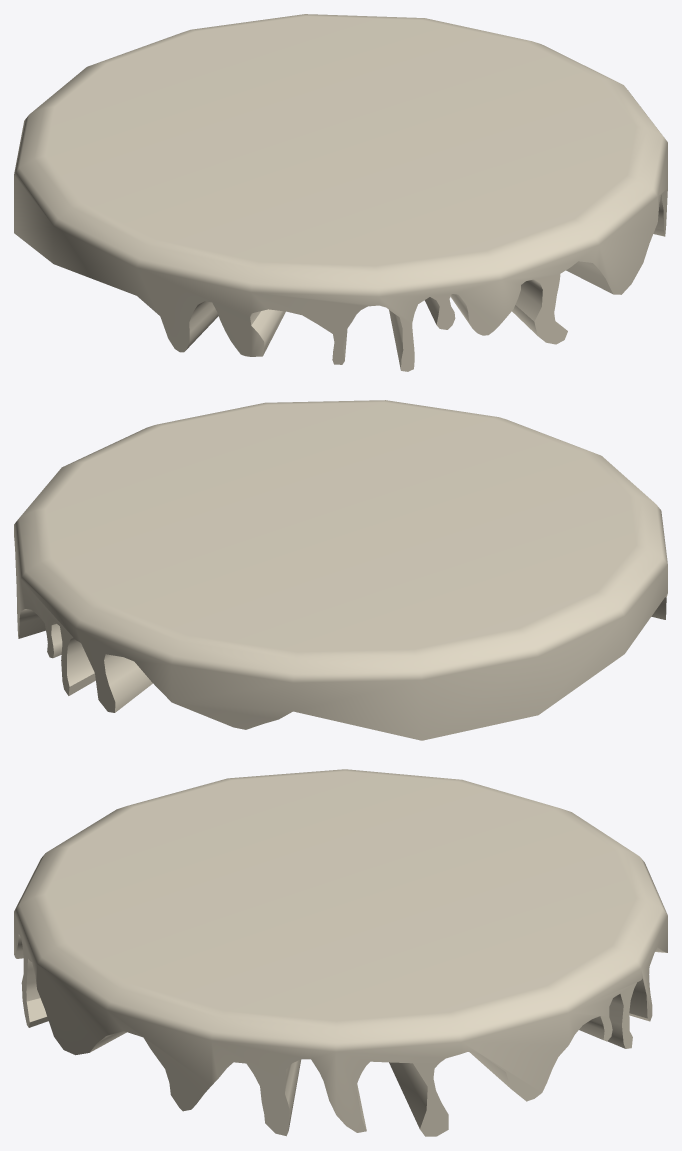
File: Ara_Katman_2.fbx
3 renders of one model, top to bottom at view 1: azimuth 30°, elevation 25°; view 2: azimuth 150°, elevation 25°; view 3: azimuth 270°, elevation 25°, orthographic.
Visible parts, largest first — view 1: p16; view 2: p16; view 3: p16.
Part boxes in pixels (x1=…): p16: x1=14, y1=14, x2=667, y2=371; p16: x1=14, y1=400, x2=667, y2=740; p16: x1=14, y1=769, x2=667, y2=1136.
Size of the model in its own units: 2.09 by 0.3874 by 2.09.
